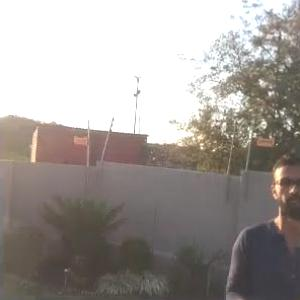follow: (219, 145, 299, 300)
